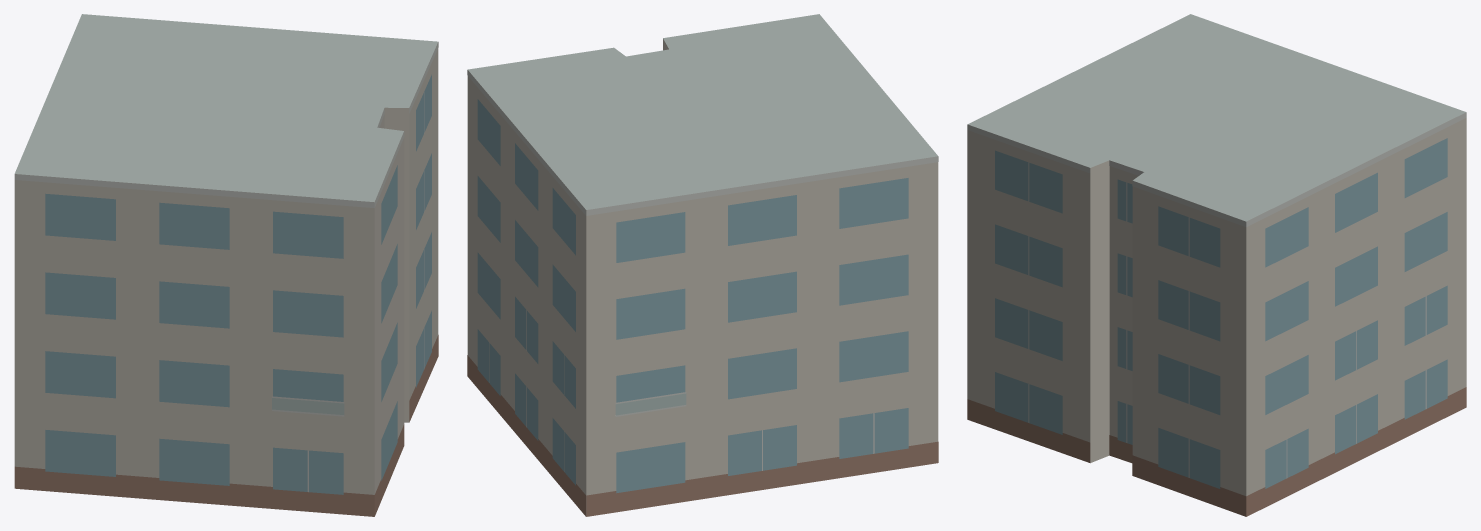
The model's file is survey-upis-32708691.glb.
3 views of the same model, side by side, from view 1: azimuth 30°, elevation 25°; view 2: azimuth 150°, elevation 25°; view 3: azimuth 270°, elevation 25° (orthographic). The views are drawn at different scales.
Visible parts, largest first — view 1: survey-upis-32708691.tmp; view 2: survey-upis-32708691.tmp; view 3: survey-upis-32708691.tmp.
Part boxes in pixels (x1=…): survey-upis-32708691.tmp: x1=14, y1=14, x2=438, y2=516; survey-upis-32708691.tmp: x1=467, y1=14, x2=938, y2=516; survey-upis-32708691.tmp: x1=967, y1=14, x2=1466, y2=516.
Bounding box in the file's own units: 19.31 × 12.8 × 19.62.
